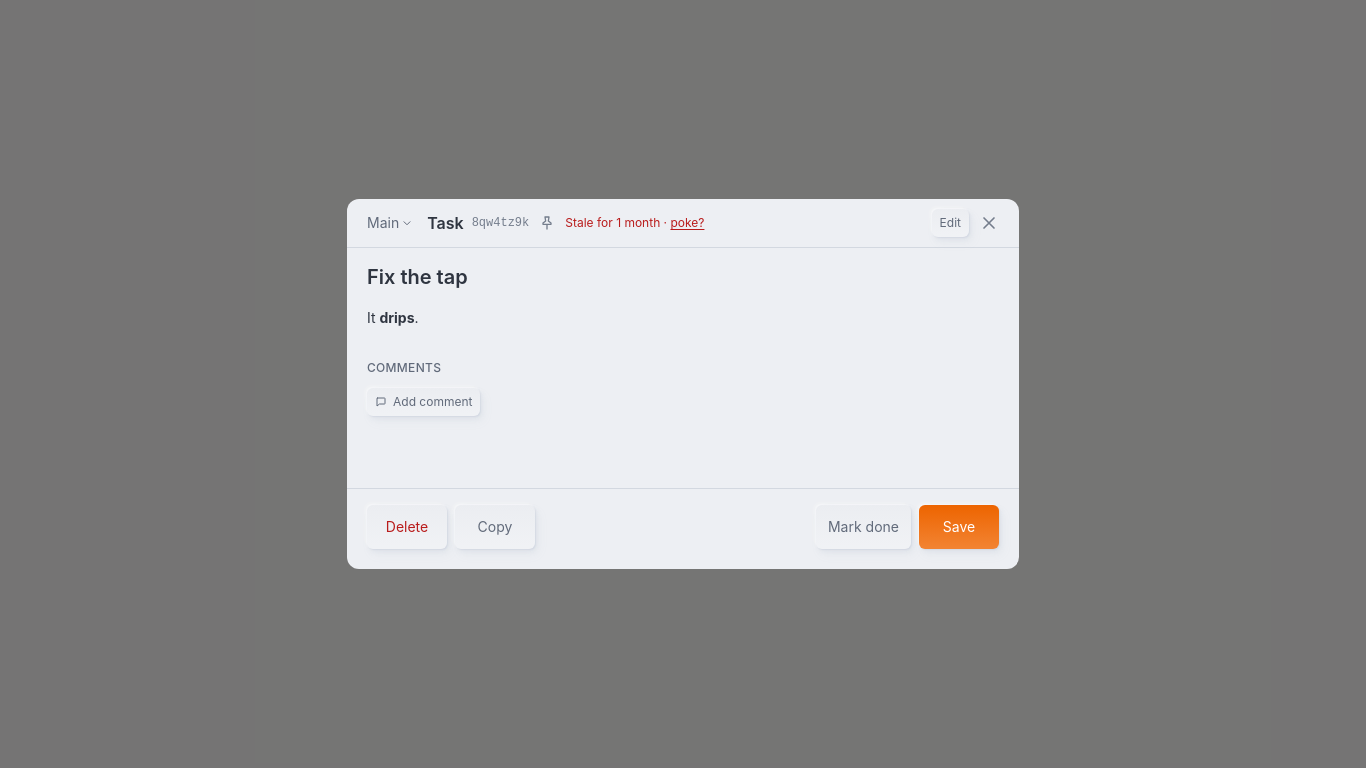
Test: opening a task › shows it as it reads, with Edit to write
Step 1. Click the button "Edit" → {"x": 950, "y": 223}, box [932,209,969,237]
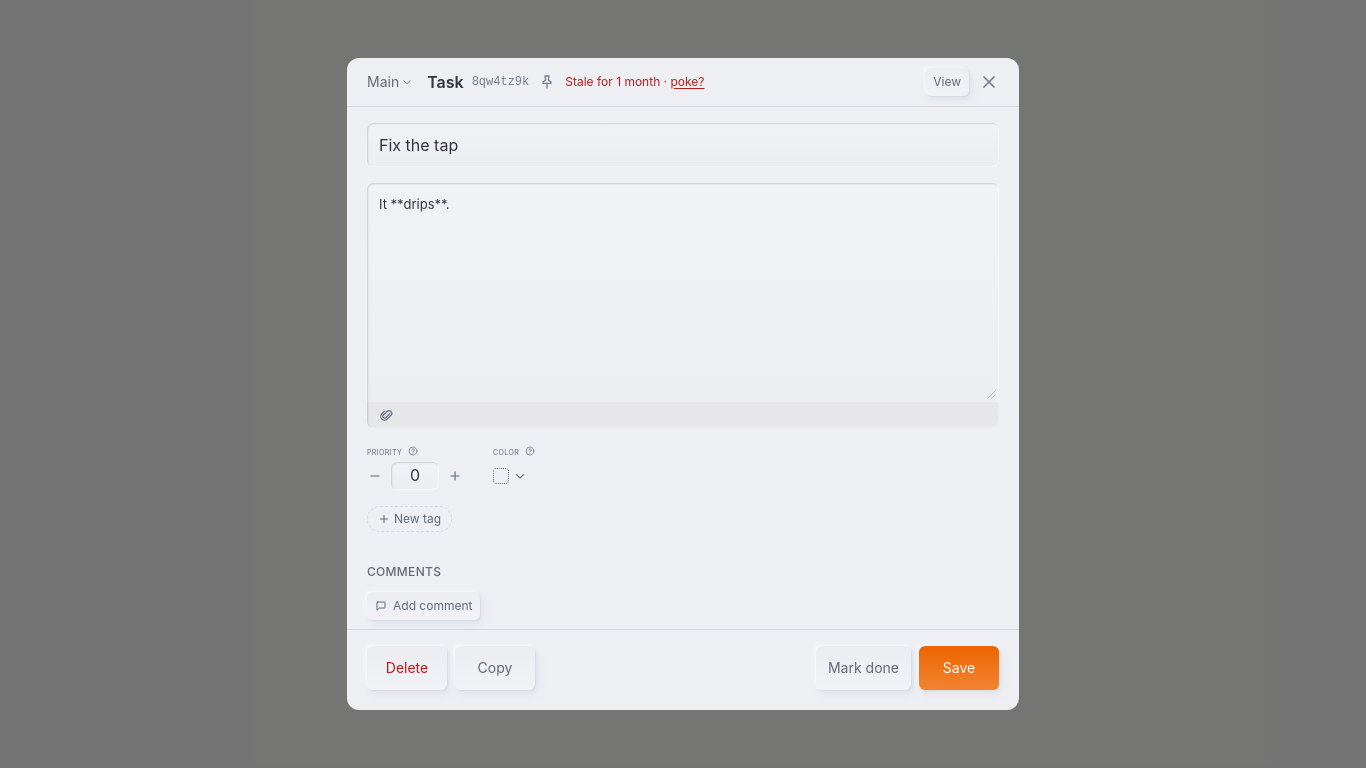
Check: the text box with placeholder "Markdown. Paste a file, or @ a task." is shown, box [367,183,999,402]
